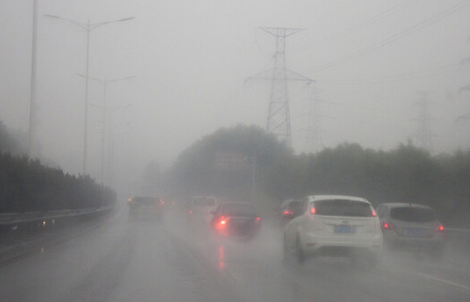car: (282, 195, 384, 270), (372, 201, 445, 257), (209, 201, 262, 240), (127, 195, 164, 222), (188, 195, 219, 225), (275, 198, 306, 224)
